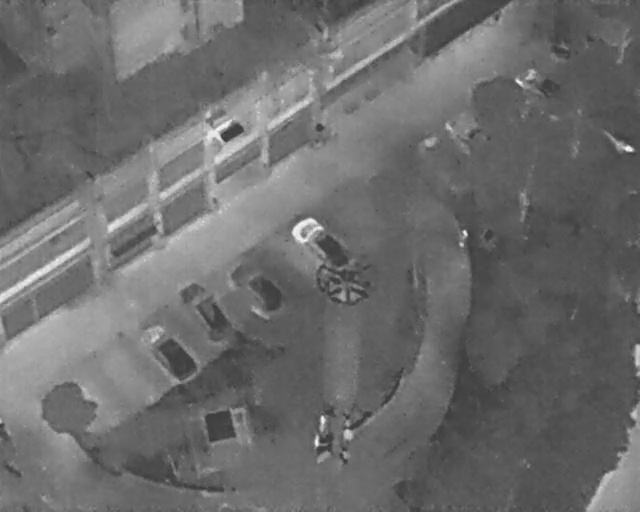Car: (130, 311, 203, 390), (284, 206, 358, 283), (172, 274, 241, 348), (224, 252, 291, 322), (510, 56, 572, 115), (439, 102, 498, 164)
